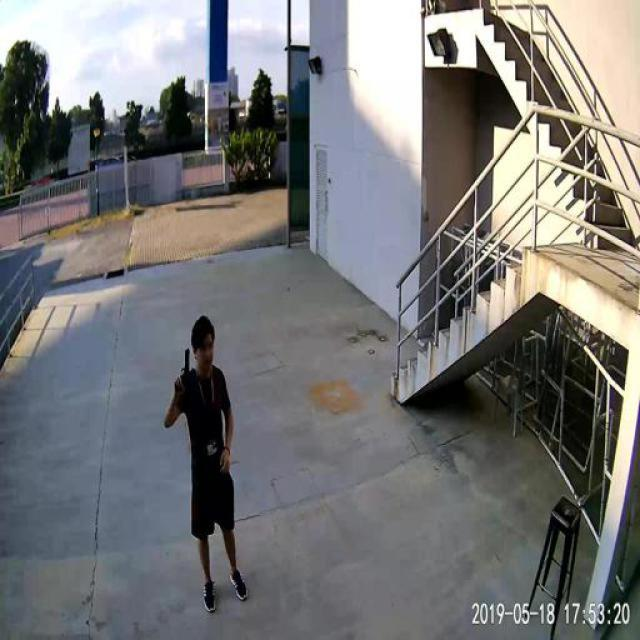weapon: (173, 349, 192, 395)
